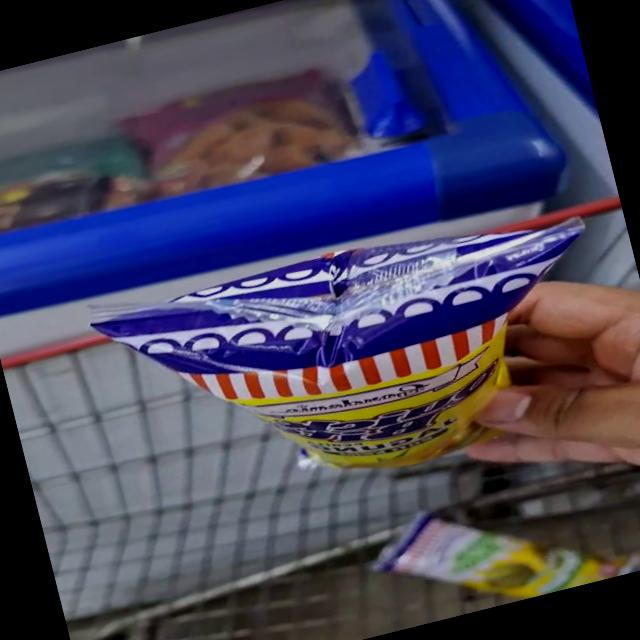Roti: (69, 184, 634, 552), (356, 468, 640, 634)
